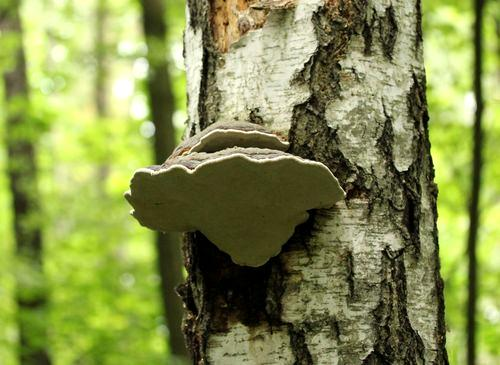Ganoderma - Fruit Body: (125, 114, 345, 272)
